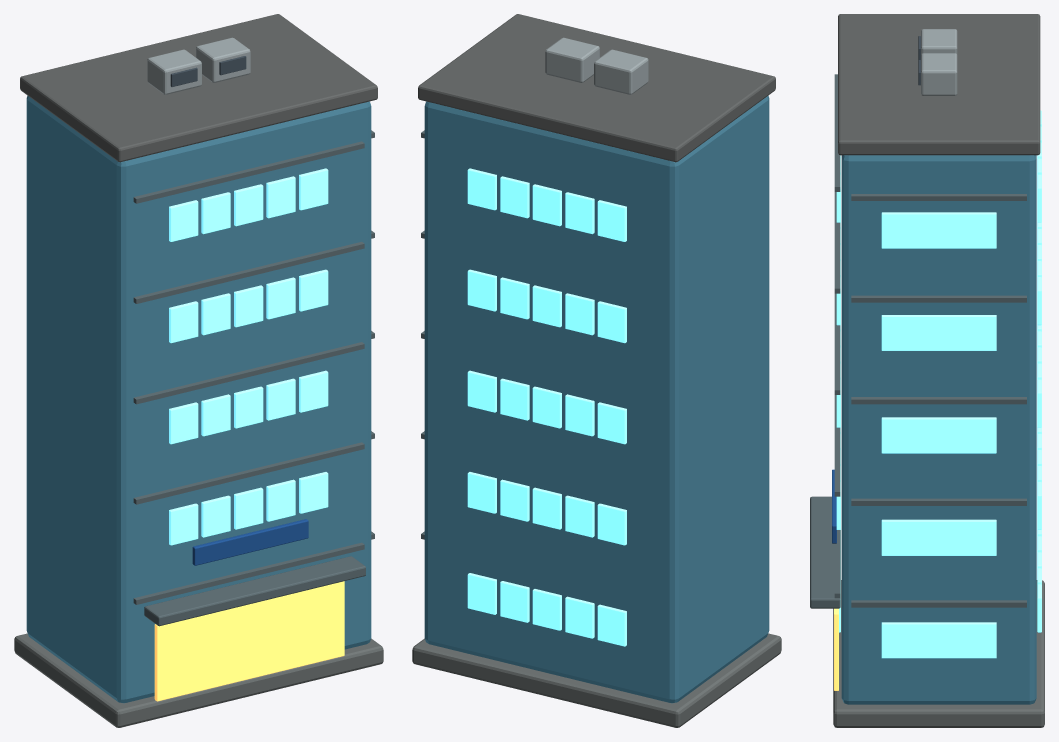
File: commercial_office_slab.glb
The picture shows the model from 3 angles, left to right: view 1: azimuth 30°, elevation 25°; view 2: azimuth 150°, elevation 25°; view 3: azimuth 270°, elevation 25°; orthographic projection.
Parts seen in each view (by area): view 1: main_massing, roof_slab, storefront_glazing, foundation, storefront_awning, shop_sign, facade_band_front.003, facade_band_front.001, facade_band_front.002, facade_band_front.004, facade_band_front, hvac_unit (+21 smaller); view 2: main_massing, roof_slab, foundation, hvac_unit, hvac_unit.001, rear_window.005, rear_window.006, rear_window.007, rear_window.010, rear_window.013, rear_window.016, rear_window.019 (+18 smaller); view 3: main_massing, roof_slab, foundation, storefront_awning, hvac_unit.001, facade_band_side, facade_band_side.001, facade_band_side.002, facade_band_side.003, facade_band_side.004, side_window.008, side_window.016 (+25 smaller).
Part boxes in pixels (x1=…): main_massing: x1=26, y1=95, x2=371, y2=703; roof_slab: x1=20, y1=14, x2=377, y2=162; storefront_glazing: x1=154, y1=581, x2=344, y2=701; foundation: x1=14, y1=633, x2=383, y2=727; storefront_awning: x1=144, y1=556, x2=365, y2=626; shop_sign: x1=192, y1=519, x2=308, y2=565; facade_band_front.003: x1=133, y1=241, x2=364, y2=303; facade_band_front.001: x1=133, y1=442, x2=364, y2=504; facade_band_front.002: x1=133, y1=342, x2=364, y2=404; facade_band_front.004: x1=133, y1=141, x2=364, y2=203; facade_band_front: x1=133, y1=542, x2=364, y2=604; hvac_unit: x1=147, y1=49, x2=201, y2=94; main_massing: x1=424, y1=95, x2=769, y2=703; roof_slab: x1=418, y1=14, x2=775, y2=162; foundation: x1=412, y1=633, x2=781, y2=727; hvac_unit: x1=594, y1=49, x2=648, y2=94; hvac_unit.001: x1=545, y1=37, x2=599, y2=82; rear_window.005: x1=597, y1=503, x2=626, y2=545; rear_window.006: x1=565, y1=495, x2=594, y2=537; rear_window.007: x1=532, y1=487, x2=561, y2=529; rear_window.010: x1=597, y1=402, x2=626, y2=444; rear_window.013: x1=500, y1=378, x2=529, y2=420; rear_window.016: x1=565, y1=293, x2=594, y2=335; rear_window.019: x1=467, y1=269, x2=496, y2=311; main_massing: x1=841, y1=155, x2=1036, y2=704; roof_slab: x1=838, y1=14, x2=1040, y2=155; foundation: x1=833, y1=580, x2=1044, y2=727; storefront_awning: x1=810, y1=496, x2=840, y2=608; hvac_unit.001: x1=921, y1=53, x2=957, y2=95; facade_band_side: x1=851, y1=600, x2=1026, y2=607; facade_band_side.001: x1=851, y1=498, x2=1026, y2=505; facade_band_side.002: x1=851, y1=397, x2=1026, y2=404; facade_band_side.003: x1=851, y1=295, x2=1026, y2=302; facade_band_side.004: x1=851, y1=194, x2=1026, y2=200; side_window.008: x1=967, y1=417, x2=996, y2=453; side_window.016: x1=967, y1=212, x2=996, y2=248.
Size of the model in its own units: 1.54 by 3.33 by 1.15.
